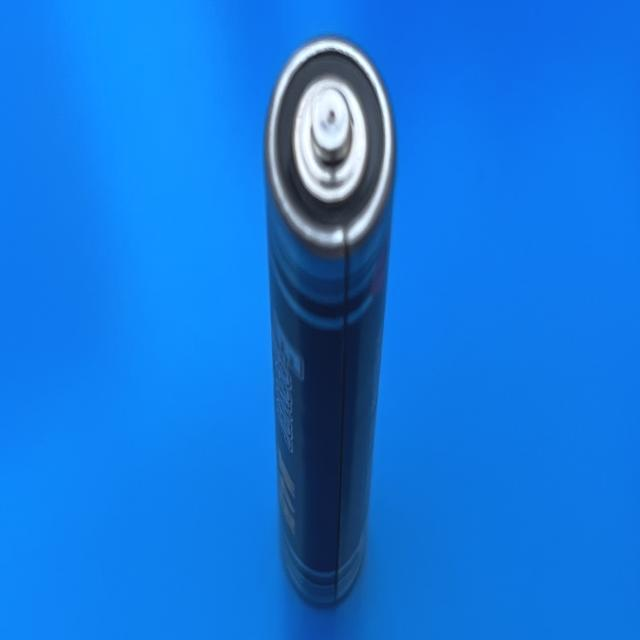AA: (264, 34, 402, 598)
